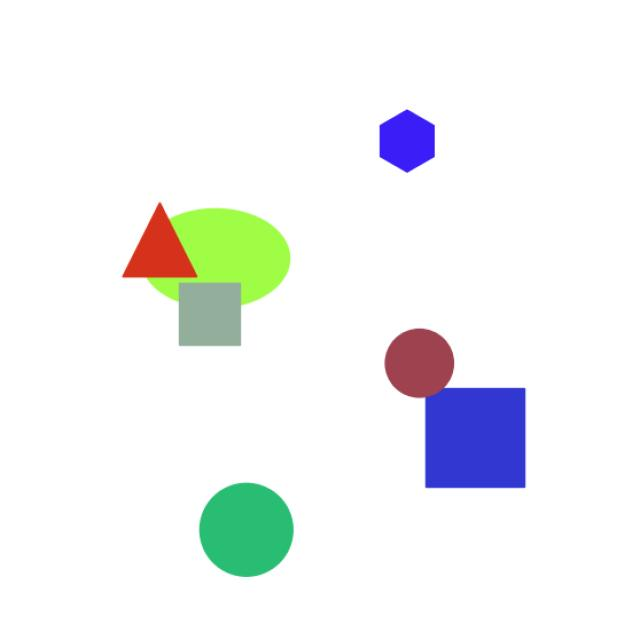Circle: (195, 474, 301, 585), (372, 316, 472, 415)
Hexagon: (360, 84, 460, 180)
Oval: (140, 208, 300, 314)
Triangle: (109, 196, 204, 285)
square: (413, 379, 543, 497), (176, 276, 251, 351)
